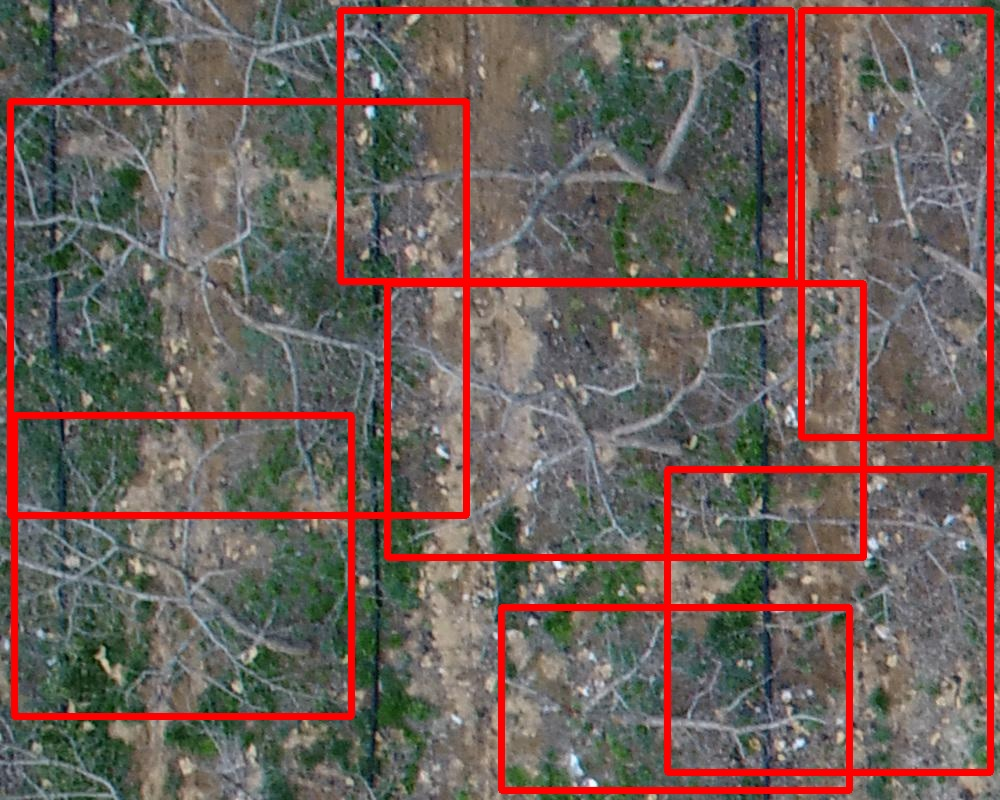apple: (10, 101, 466, 515), (387, 283, 863, 557), (340, 10, 791, 281), (14, 415, 351, 716), (667, 469, 990, 772), (801, 10, 990, 437), (501, 607, 849, 790)
